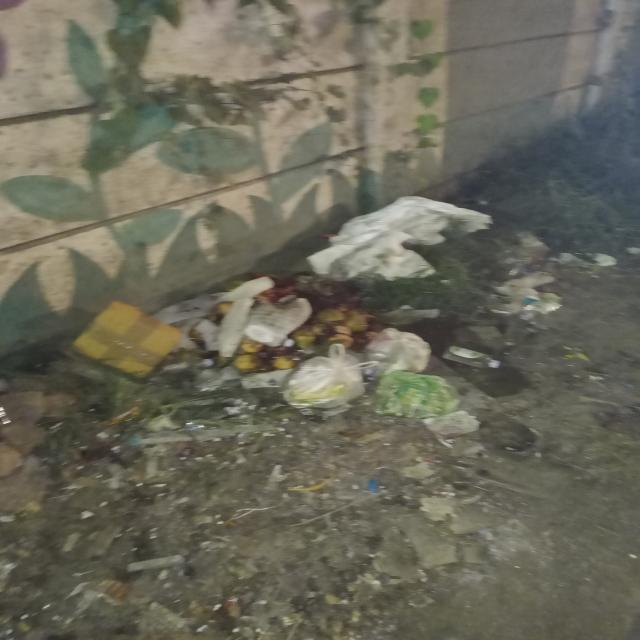garbage: (111, 195, 639, 438)
